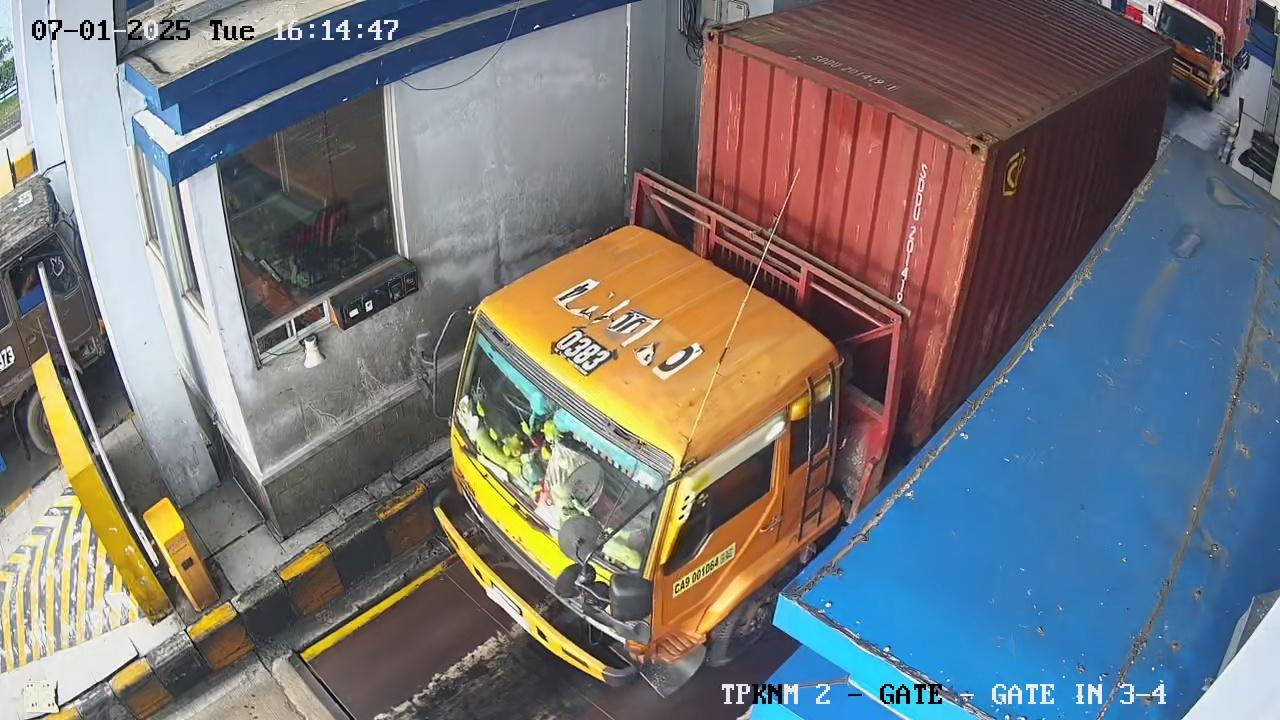Container_ID: (798, 42, 911, 103)
Container_ID_Vertikal: (884, 156, 946, 317)
truck_id: (542, 270, 721, 388), (669, 536, 743, 607)
